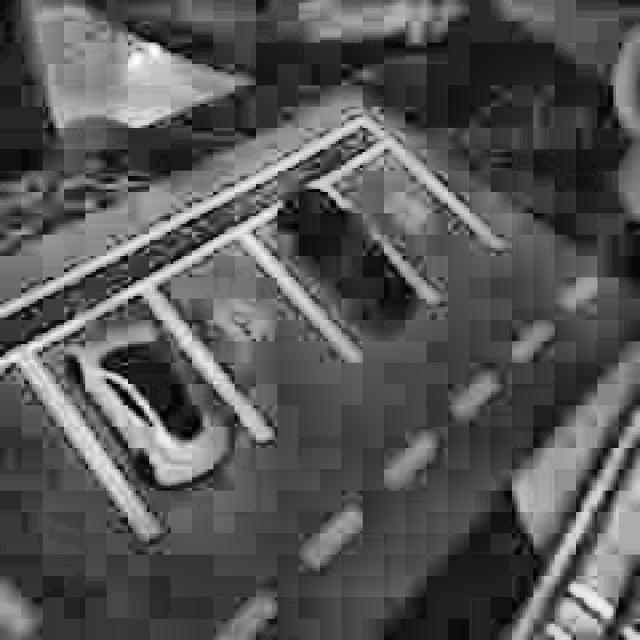car: (61, 304, 241, 499), (274, 177, 420, 349)
